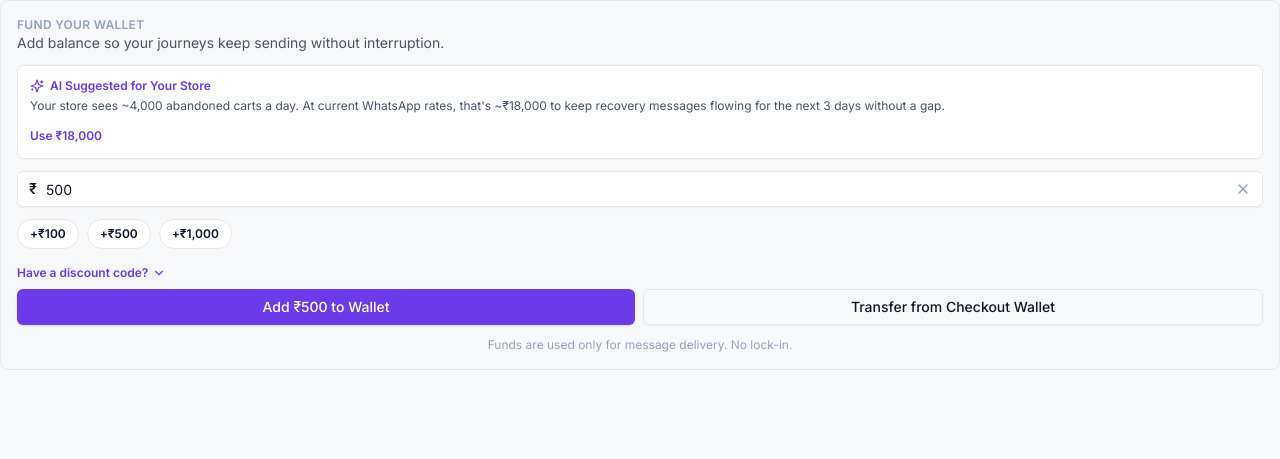
WalletRechargeCard › removing an applied coupon clears the bonus and reverts to the plain coupon input
Step 1. Click the button with test id "wallet-recharge-discount-toggle" → point(92, 273), box [17,265,166,281]
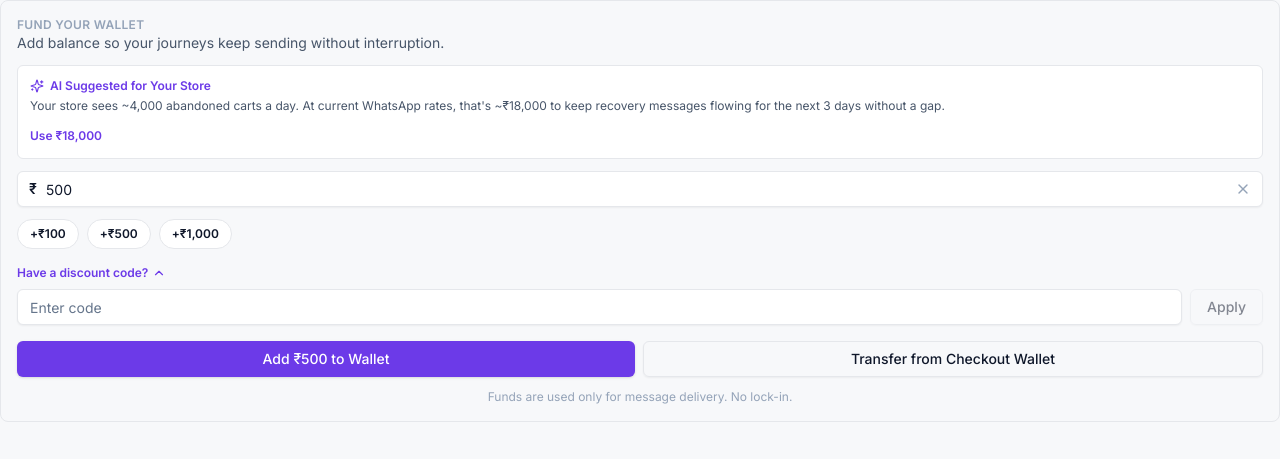
Step 2. Type "WELCOME10" into the field with test id "wallet-recharge-coupon-input" → point(600, 307), box [17,289,1182,325]
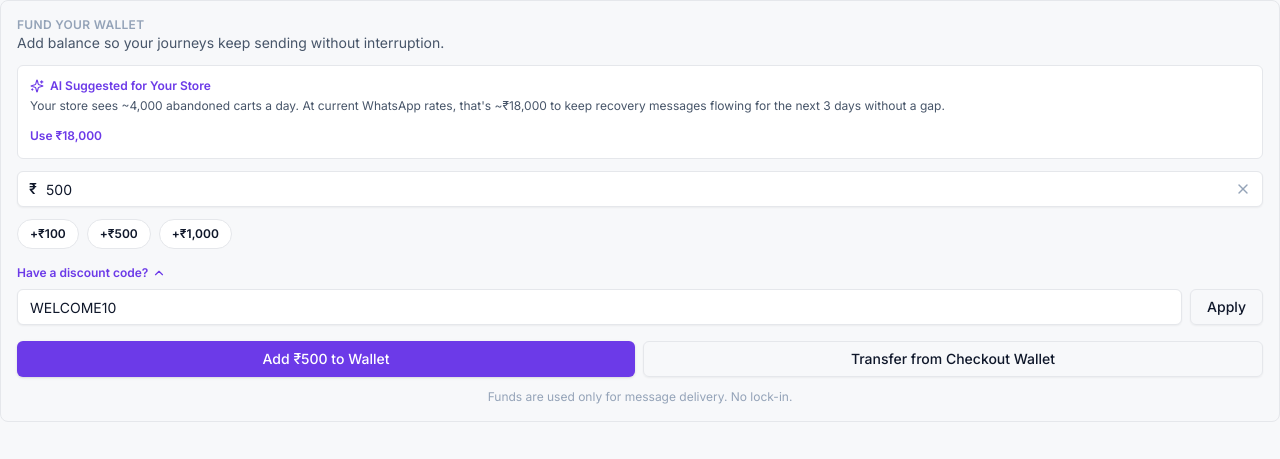
Step 3. Click the button with test id "wallet-recharge-coupon-apply" → point(1227, 307), box [1190,289,1263,325]
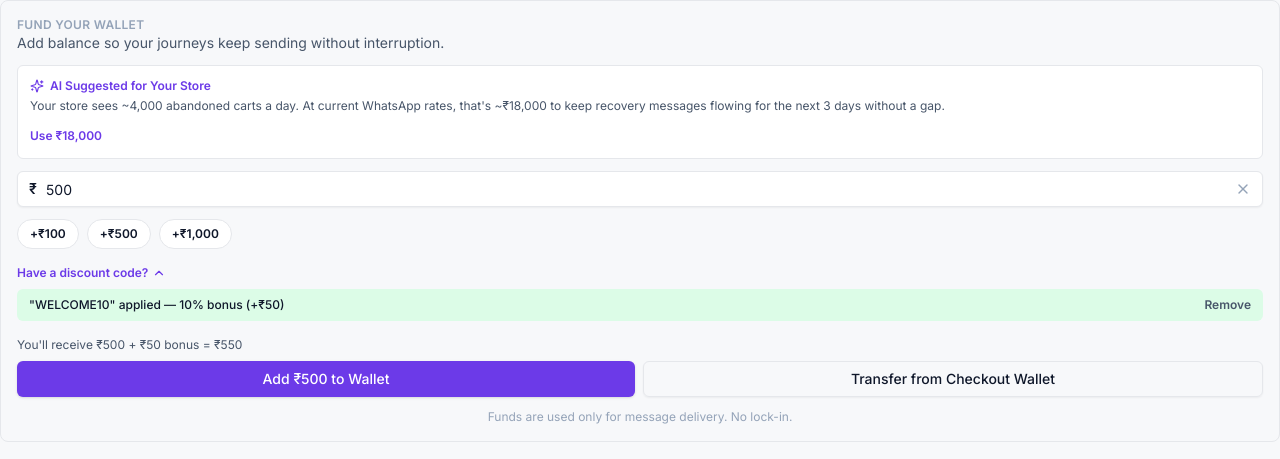
Step 4. Click the button with test id "wallet-recharge-coupon-remove" → point(1228, 305), box [1204,297,1251,313]
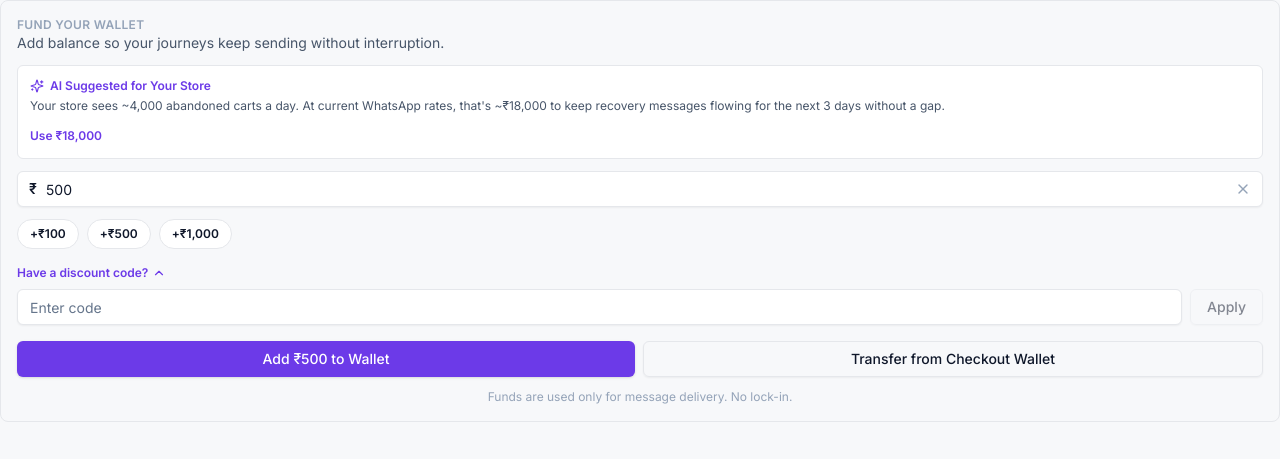
Expected: the field with test id "wallet-recharge-coupon-input" is empty, [17,289,1182,325]
